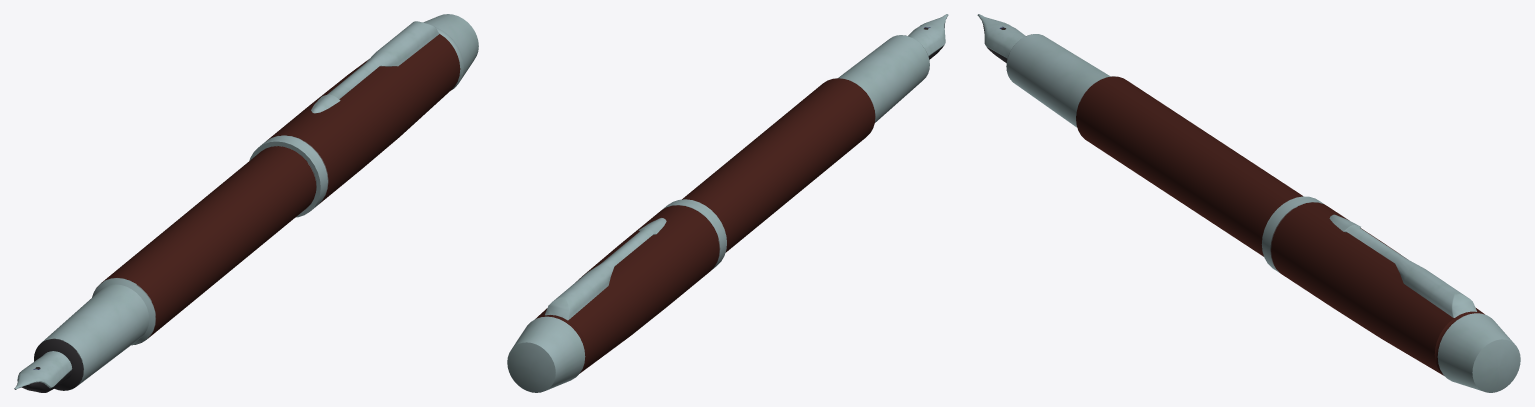
File: old_pen.obj
The picture shows the model from 3 angles, left to right: view 1: azimuth 30°, elevation 25°; view 2: azimuth 210°, elevation 25°; view 3: azimuth 270°, elevation 25°; orthographic projection. The views are drawn at different scales.
Parts seen in each view (by area): view 1: Object_0; view 2: Object_0; view 3: Object_0.
Part boxes in pixels (<box>): Object_0: <box>14,14,478,392</box>; Object_0: <box>507,14,948,392</box>; Object_0: <box>977,14,1520,392</box>.
Size of the model in its own units: 8.42 by 0.9442 by 5.58.
Materials: 1 (1 with a texture image).
